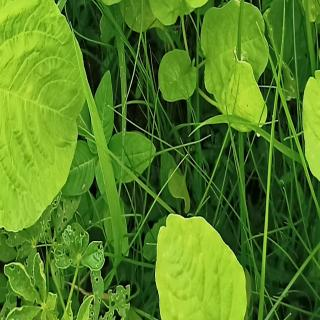karat_putih: (141, 0, 216, 14), (79, 0, 145, 9)
